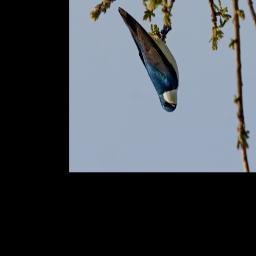Swallow: (115, 5, 182, 117)
